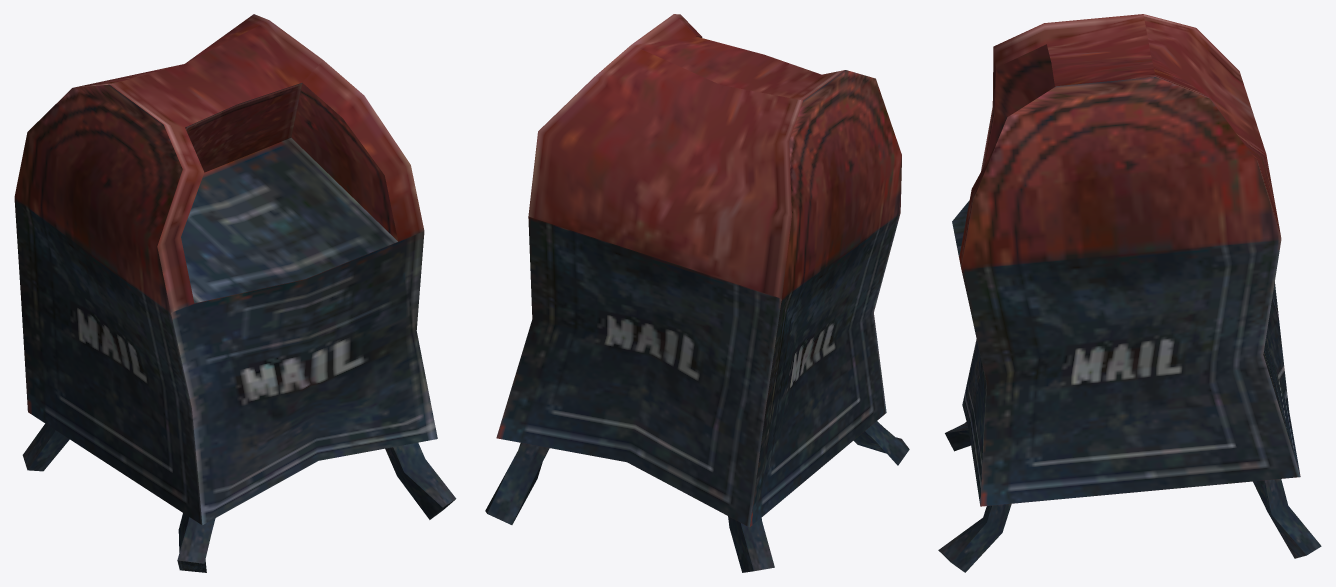
The model's file is Model_Mailbox_03.fbx.
3 views of the same model, side by side, from view 1: azimuth 30°, elevation 25°; view 2: azimuth 150°, elevation 25°; view 3: azimuth 270°, elevation 25° (orthographic). The views are drawn at different scales.
Parts seen in each view (by area): view 1: Mailbox_03; view 2: Mailbox_03; view 3: Mailbox_03.
Part boxes in pixels (x1,y1,x2,y2): Mailbox_03: (14,14,456,572); Mailbox_03: (485,14,909,572); Mailbox_03: (938,14,1321,572).
Bounding box in the file's own units: 89.41 × 130 × 99.11.
